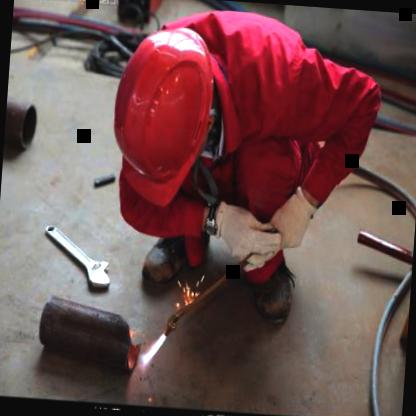helmet: (98, 18, 238, 227)
